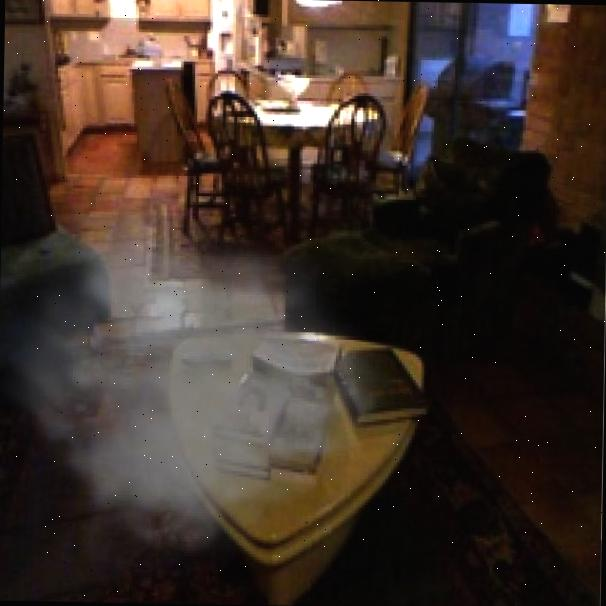smoke: (0, 213, 398, 597)
